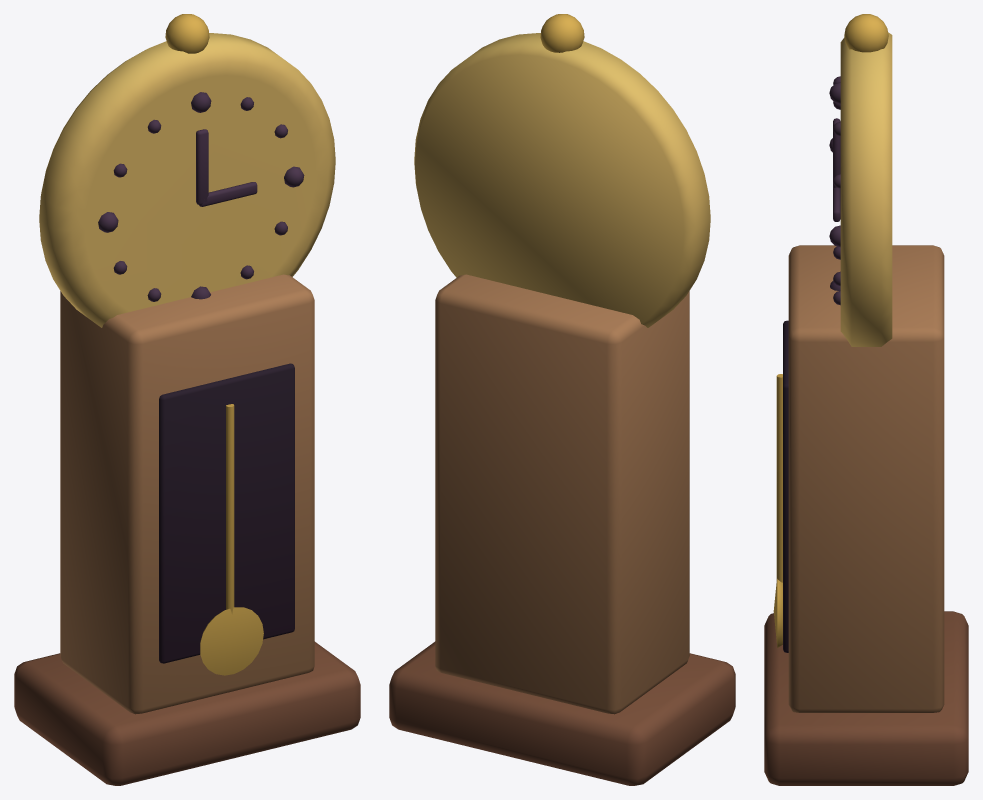
File: decor-clock.glb
3 renders of one model, left to right at view 1: azimuth 30°, elevation 25°; view 2: azimuth 150°, elevation 25°; view 3: azimuth 270°, elevation 25°, orthographic.
Parts seen in each view (by area): view 1: decor-clock; view 2: decor-clock; view 3: decor-clock.
Part boxes in pixels (x1,y1,x2,y2): decor-clock: (14,14,360,785); decor-clock: (389,14,735,785); decor-clock: (764,14,968,785).
Size of the model in its own units: 0.88 by 2.12 by 0.55.
